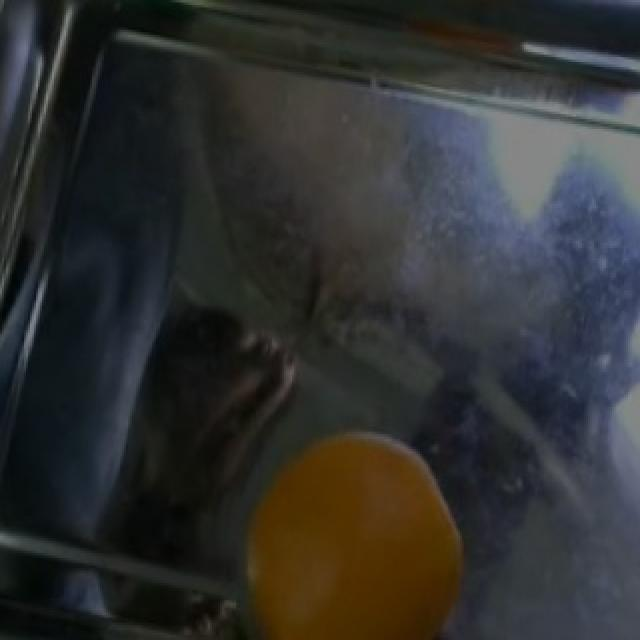Fruit: (214, 402, 482, 640)
